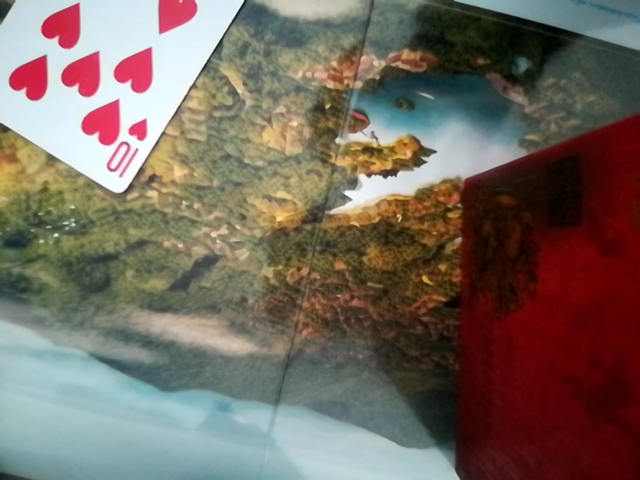hx 10: (0, 0, 267, 200)
